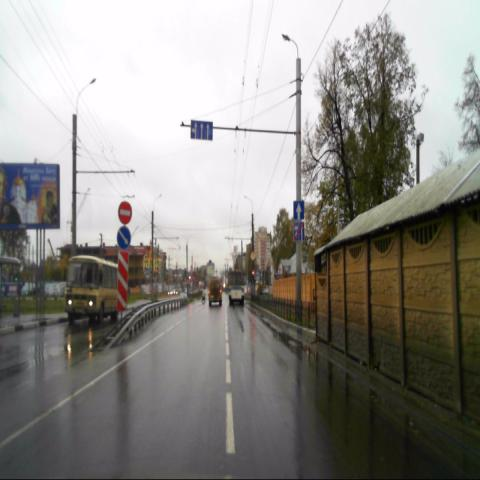3_1: (118, 201, 132, 226)
4_2_1: (116, 227, 130, 252)
5_12: (293, 222, 304, 241)
5_15_1: (190, 119, 213, 142)
5_5: (293, 200, 304, 221)
